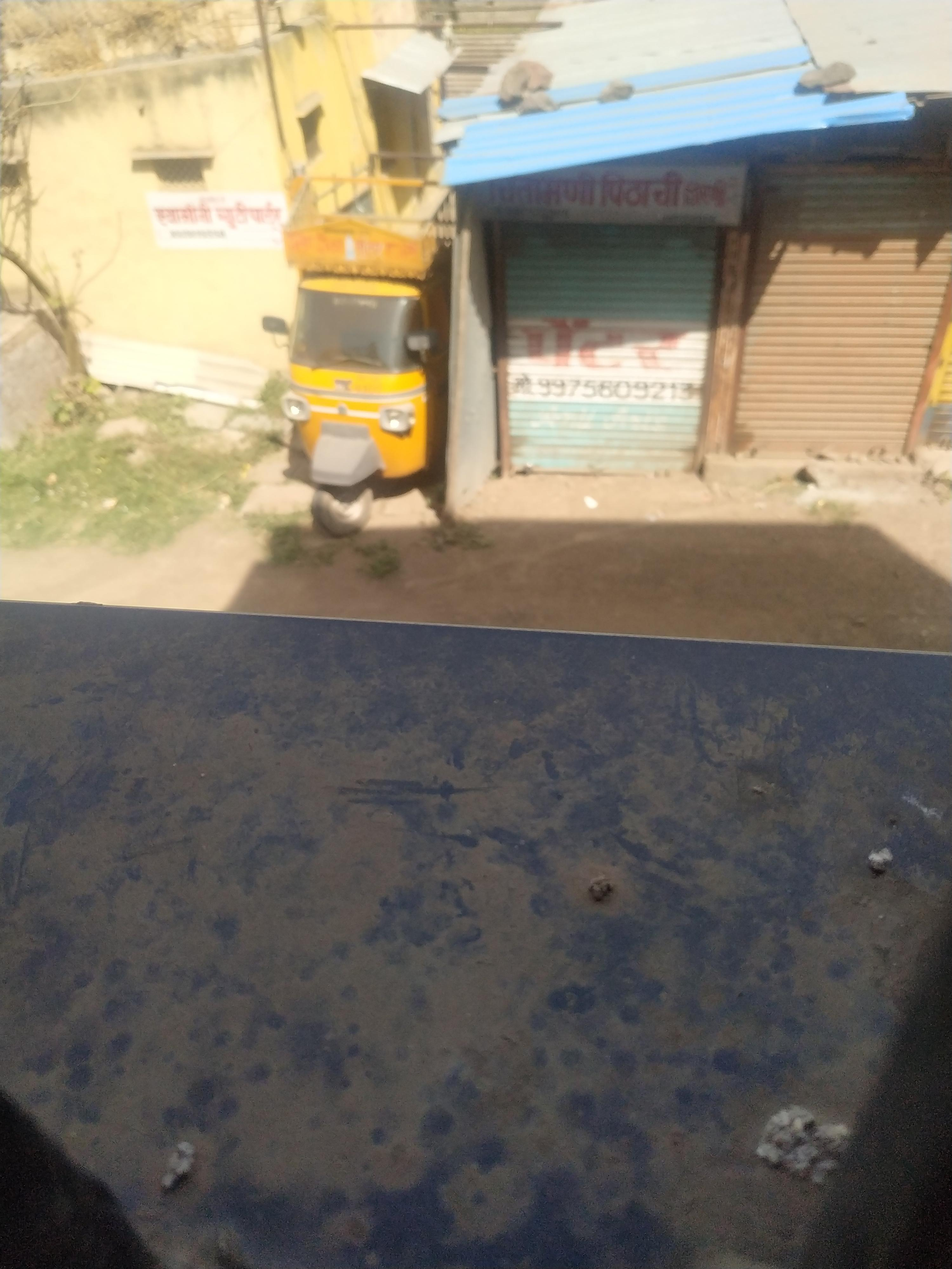non-ambulance: (252, 116, 462, 560)
